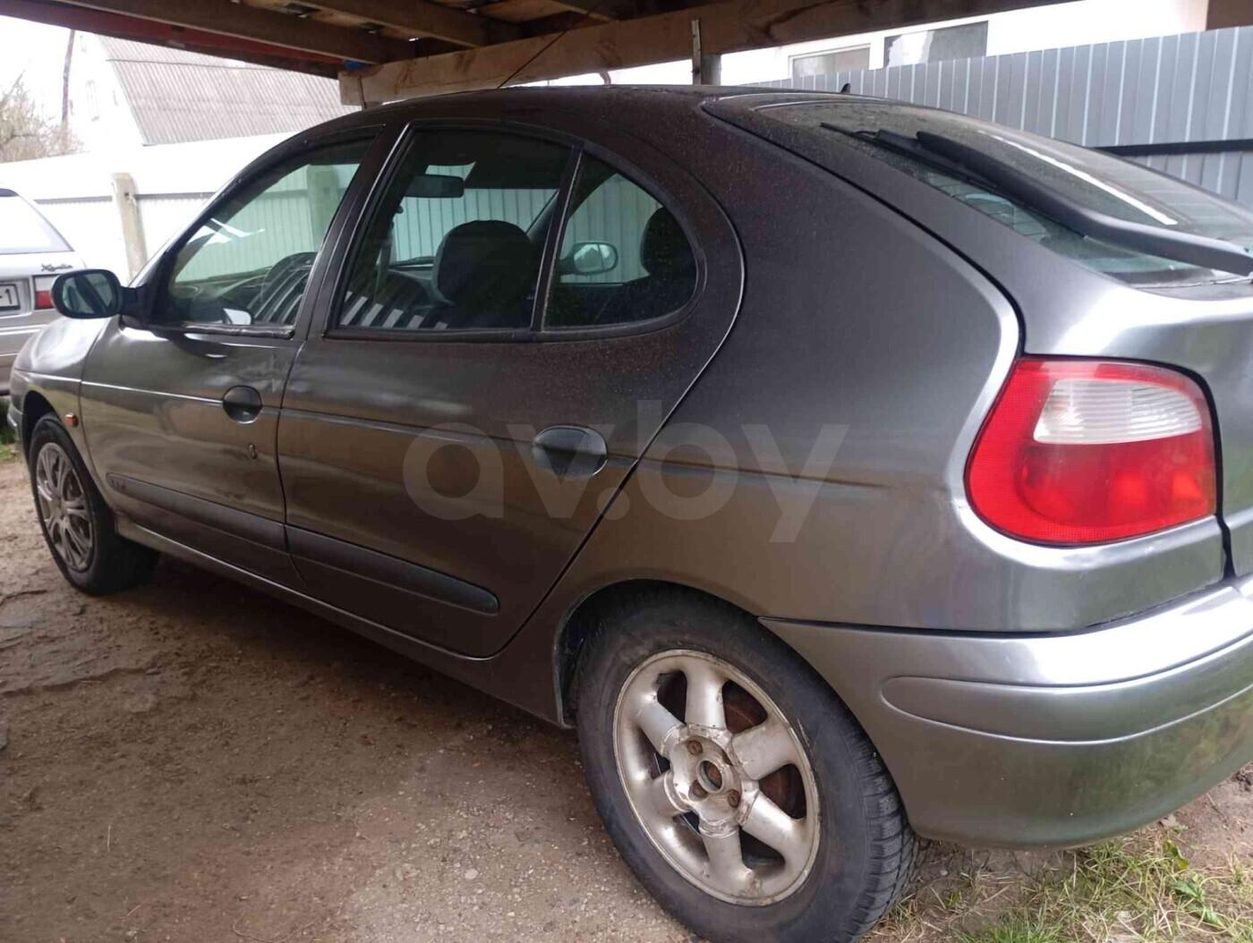Megane_1999-2003: (4, 88, 1253, 943)
